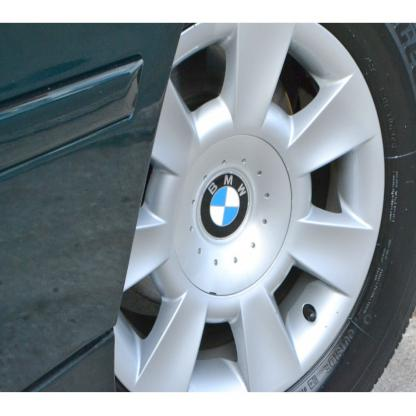Car: (0, 15, 416, 406)
